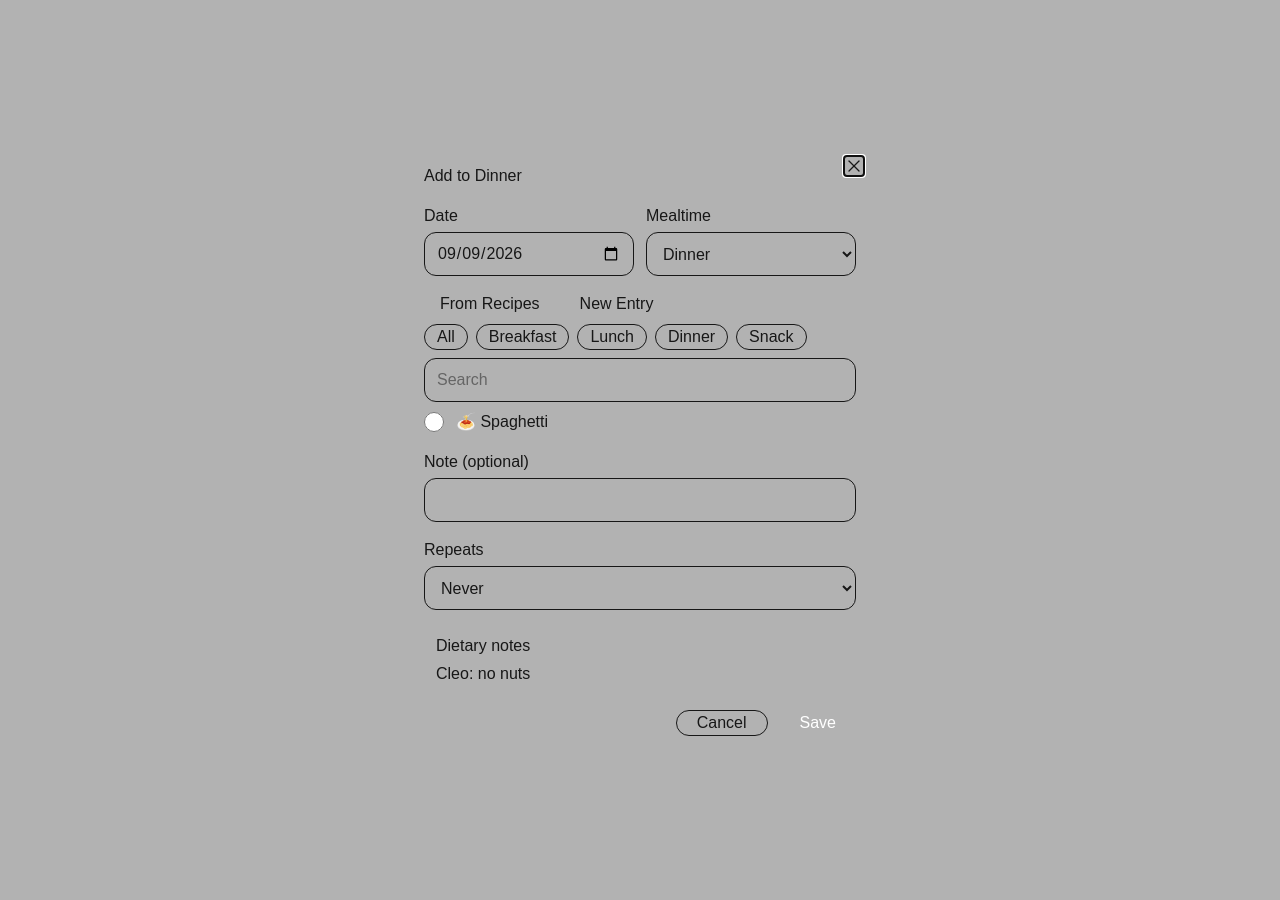
Test: MealSheet — add › names the slot, prefills the date and mealtime, lists the slot's mealtime's recipes first, and shows the dietary notes
The width and height of the screenshot is (1280, 900).
Expected: the heading "Add to Dinner" is shown, [424,167,522,184]
Expected: the date field labelled "Date" holds "2026-09-09", [424,232,634,276]
Step 1. Click the radio button labelled "All" → (446, 337), box [424,324,468,350]
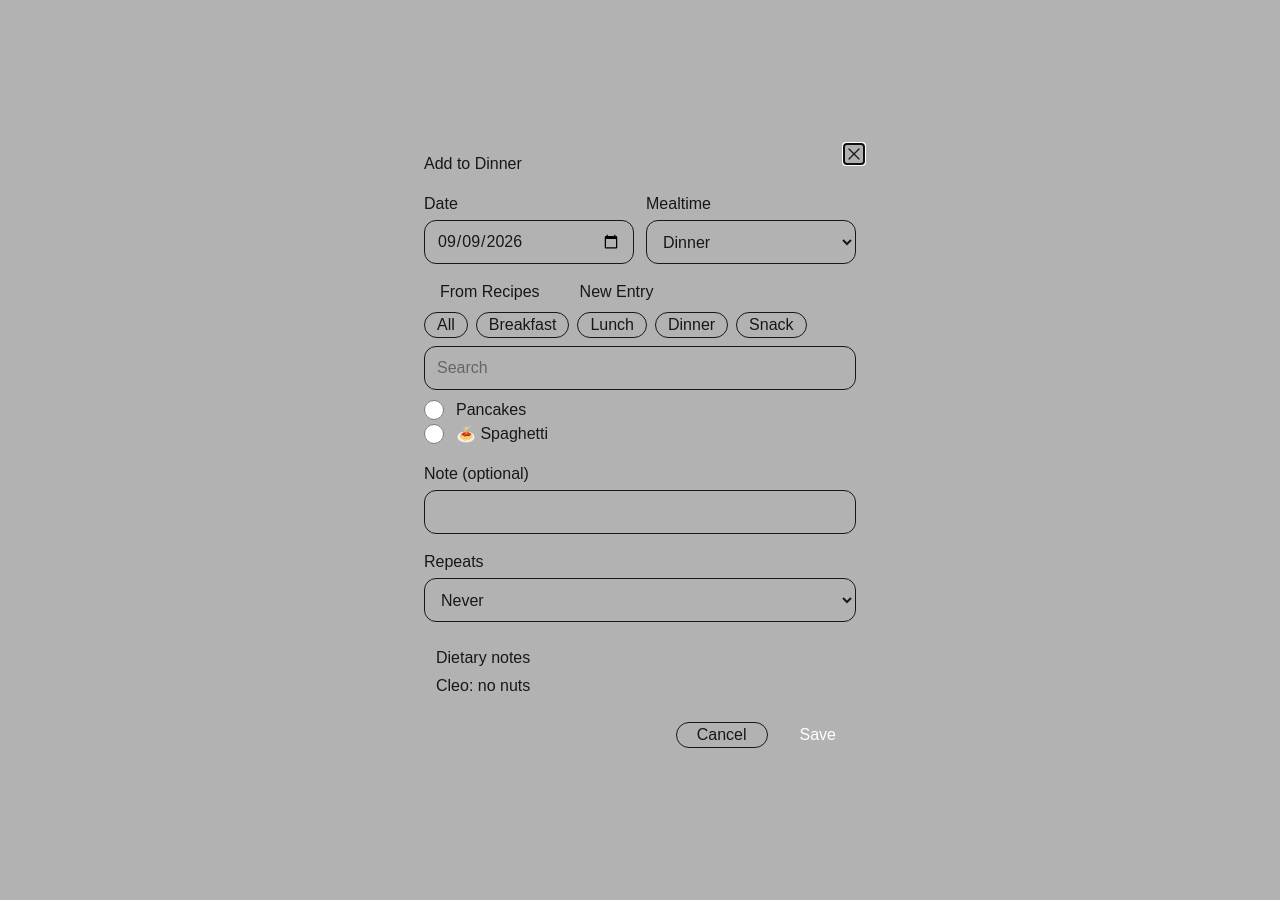
Expected: the list item "Cleo: no nuts" is shown, [436,677,530,694]
Expected: the radio button labelled "Pancakes" is shown, [424,400,444,420]
